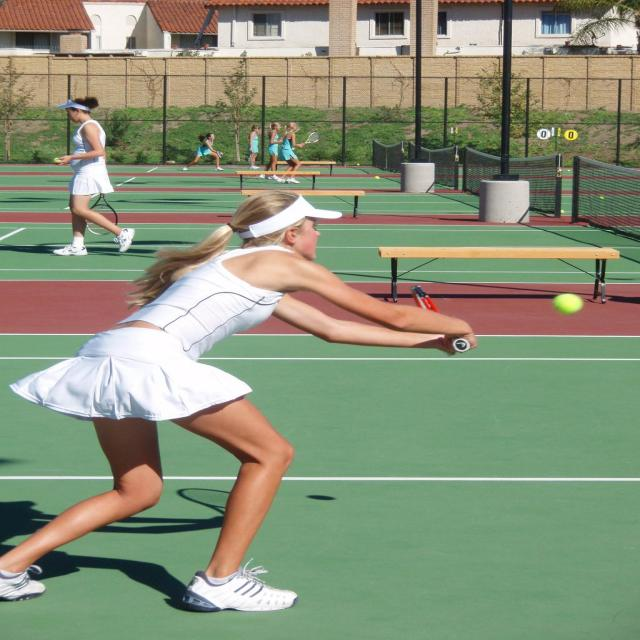nomask: (297, 215, 319, 259), (65, 108, 77, 122), (210, 134, 214, 140), (276, 124, 280, 130), (293, 125, 297, 130), (256, 128, 258, 132)
